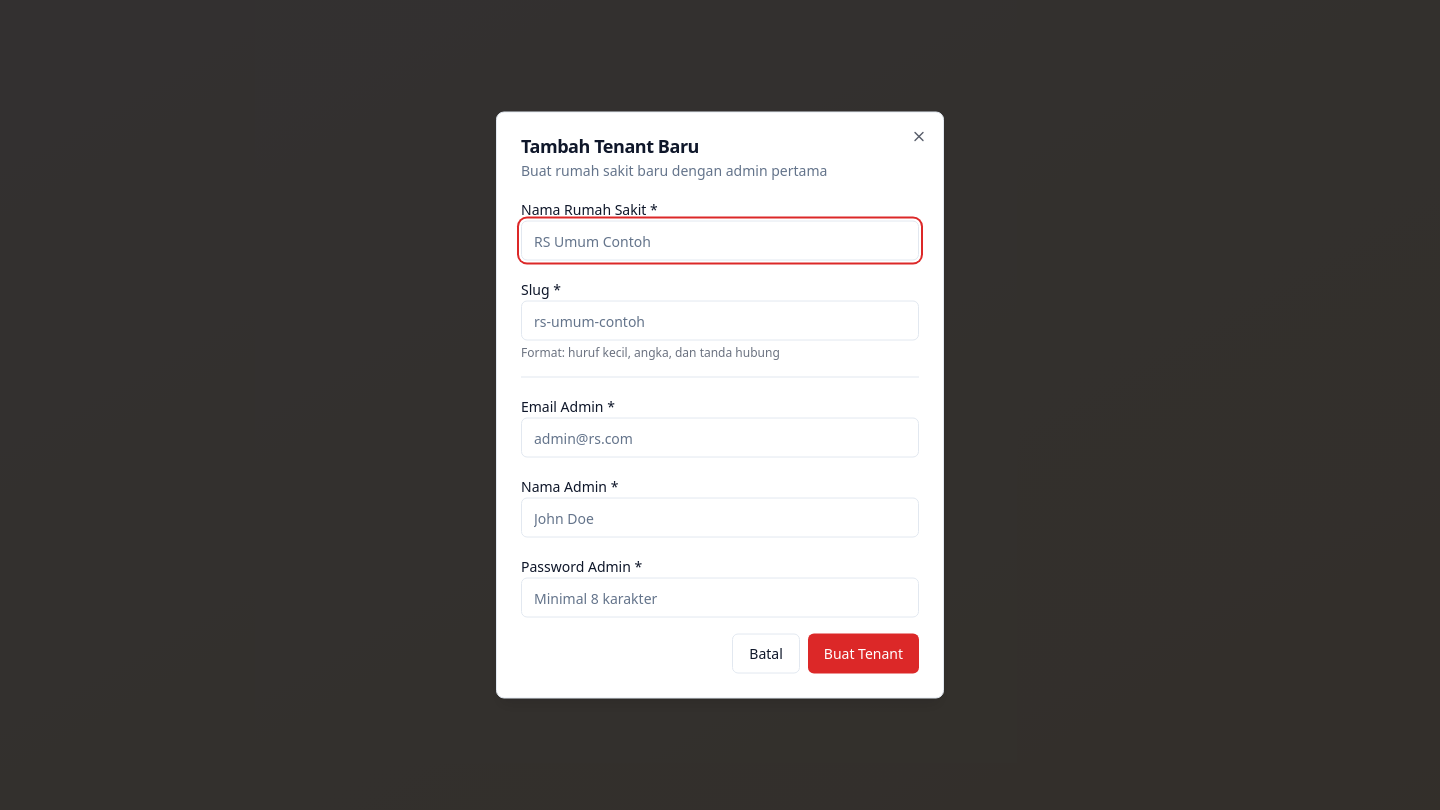
it: CreateTenantDialog › should auto-generate slug from name
Note: Type in name field
In the field labelled "Nama Rumah Sakit *": (720, 240) [521, 220, 919, 260], type "RS Test Hospital"
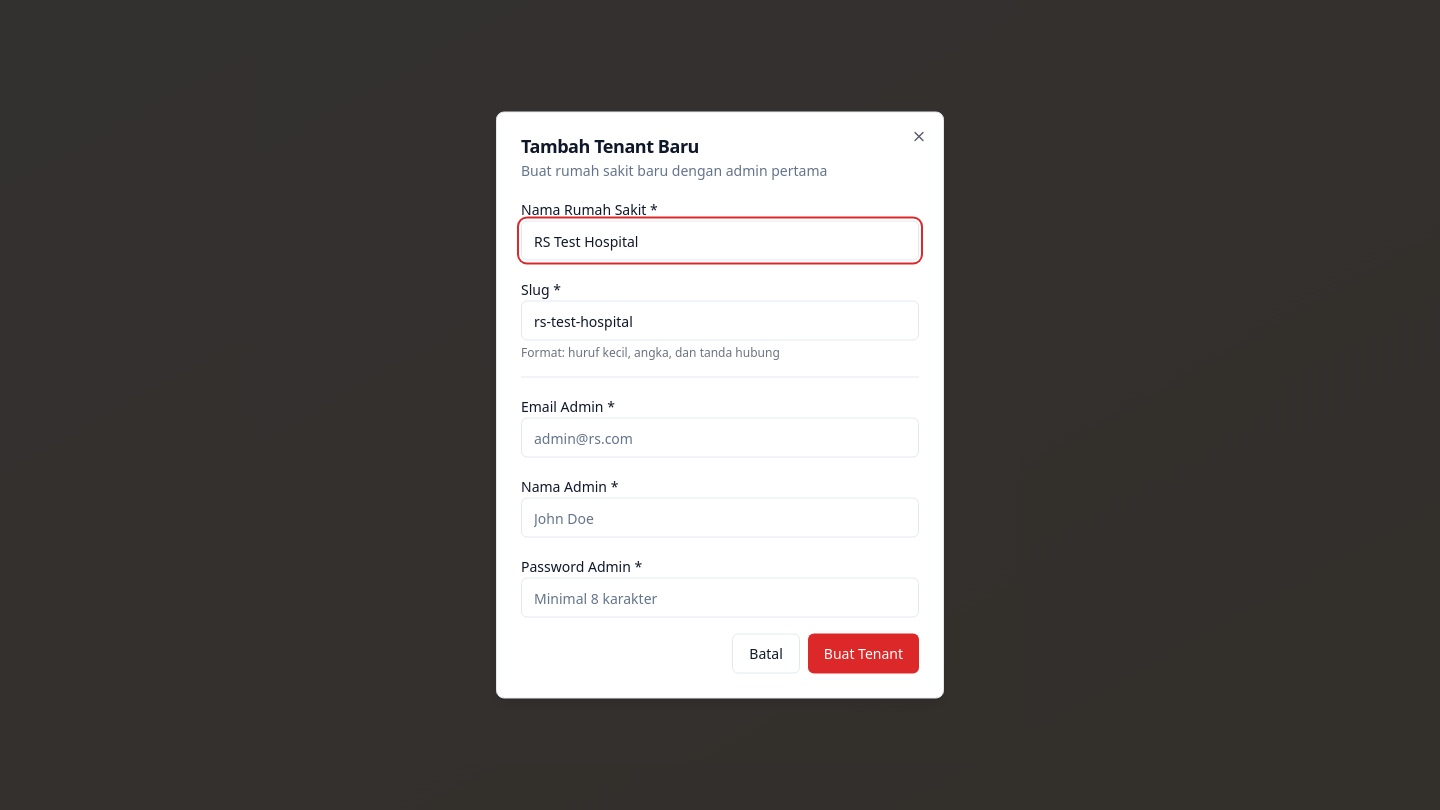
Result: the field labelled "Slug *" holds "rs-test-hospital" at [521, 300, 919, 340]
